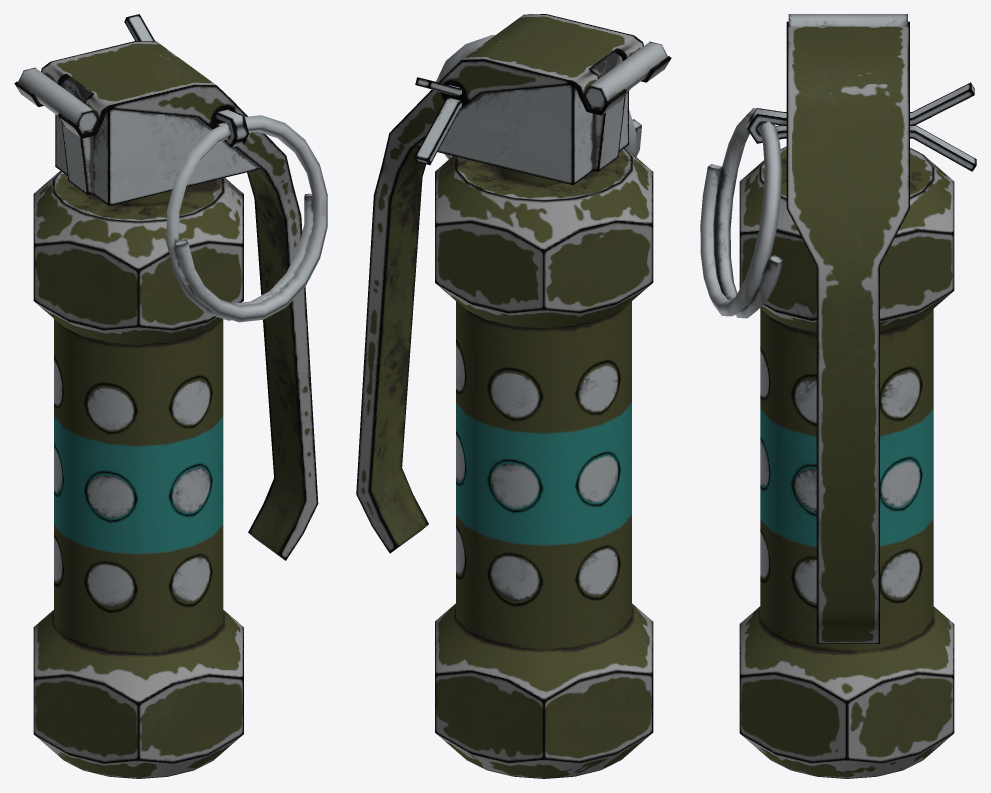
File: GrenadeFlash.fbx
The picture shows the model from 3 angles, left to right: view 1: azimuth 30°, elevation 25°; view 2: azimuth 150°, elevation 25°; view 3: azimuth 270°, elevation 25°; orthographic projection. The views are drawn at different scales.
Visible parts, largest first — view 1: GrenadeFlash; view 2: GrenadeFlash; view 3: GrenadeFlash.
Part boxes in pixels (box(x1,y1,x2,y2)): GrenadeFlash: box(14, 14, 327, 778); GrenadeFlash: box(356, 14, 671, 778); GrenadeFlash: box(700, 14, 976, 778).
Bounding box in the file's own units: 8.04 × 19.15 × 6.98.
